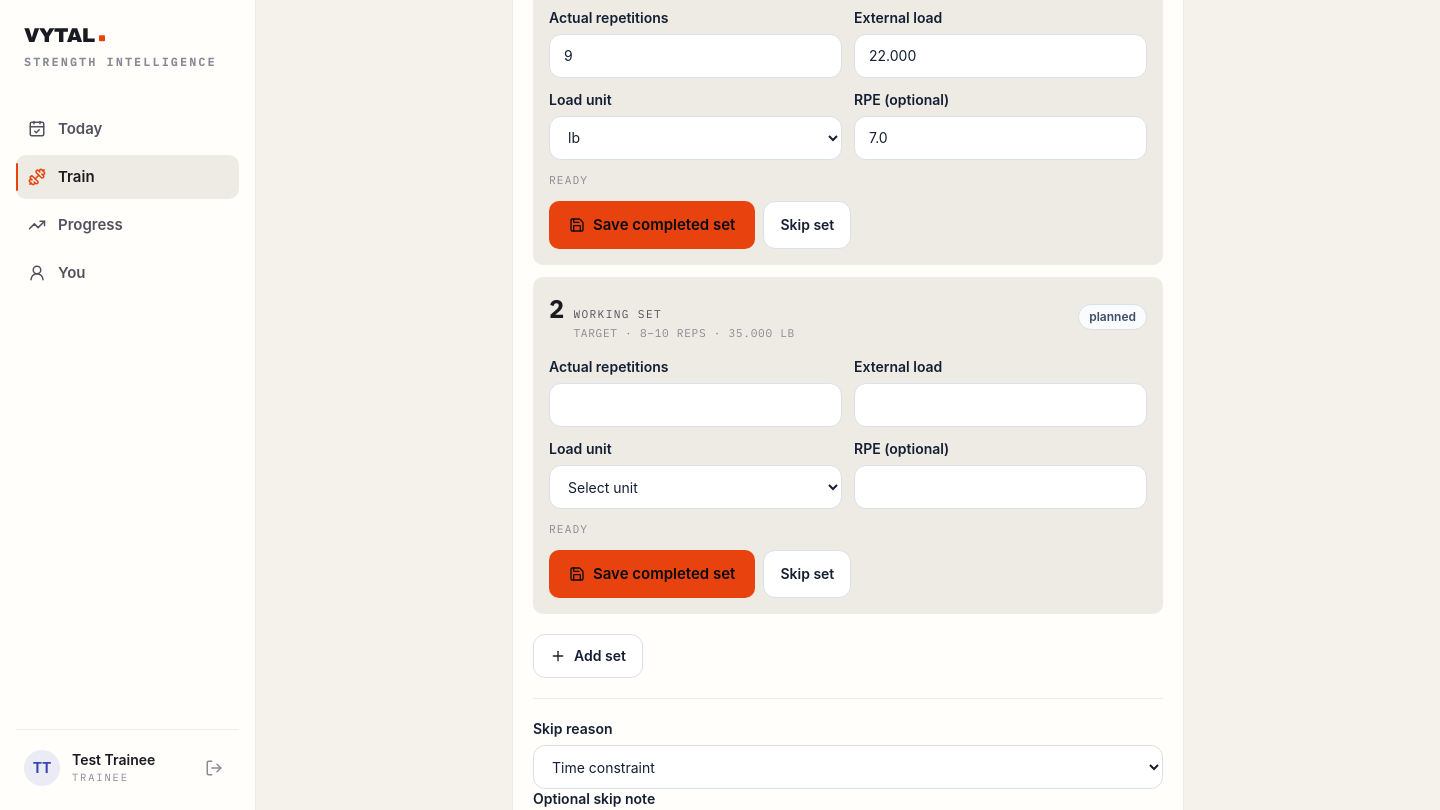
it: preserves unsaved values and offers reload after a revision conflict
The image size is (1440, 810).
(page scrolled)
In the number field labelled "Actual repetitions" below "planned": (696, 405) [549, 383, 842, 427], type "12"
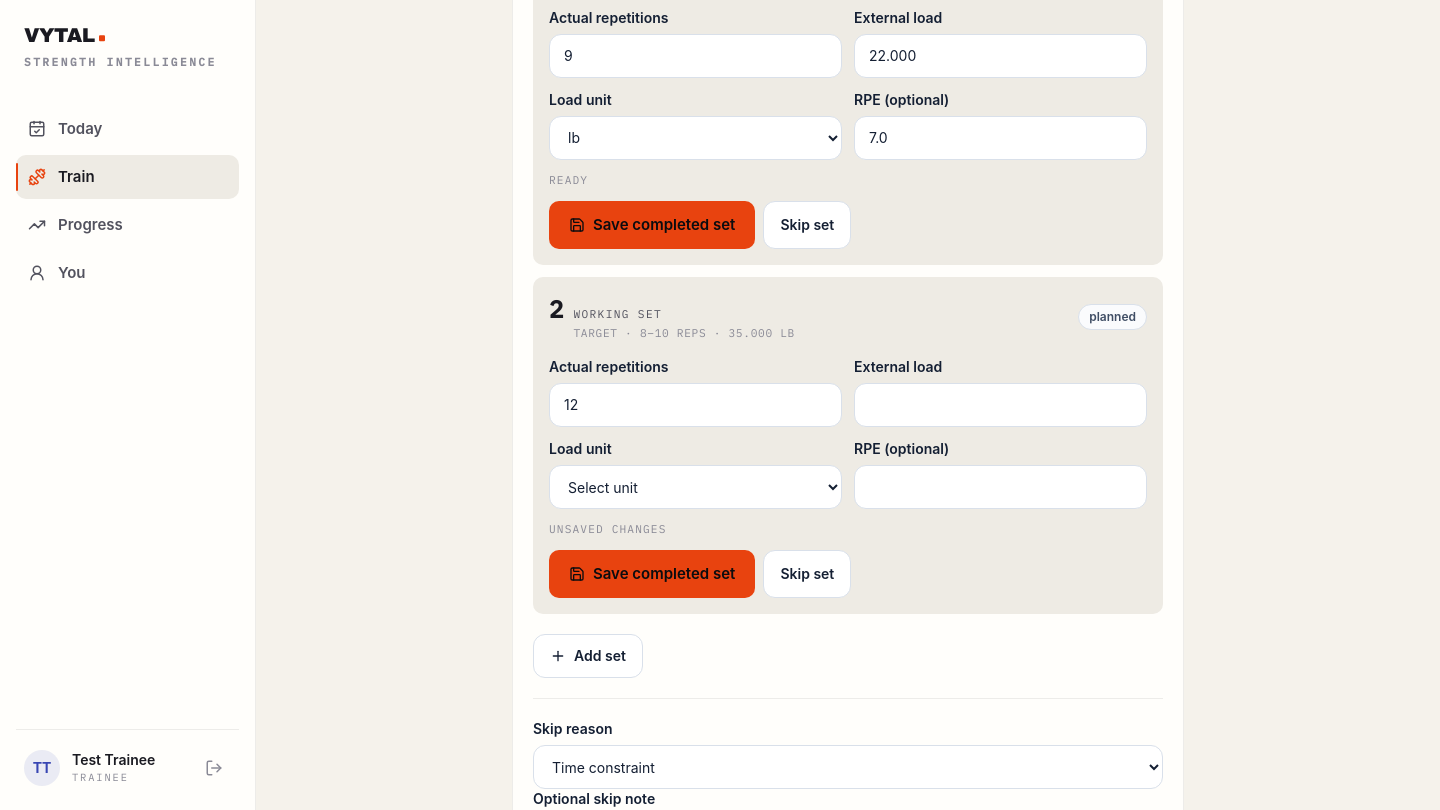
In the number field labelled "External load" below "planned": (1000, 405) [854, 383, 1147, 427], type "25"
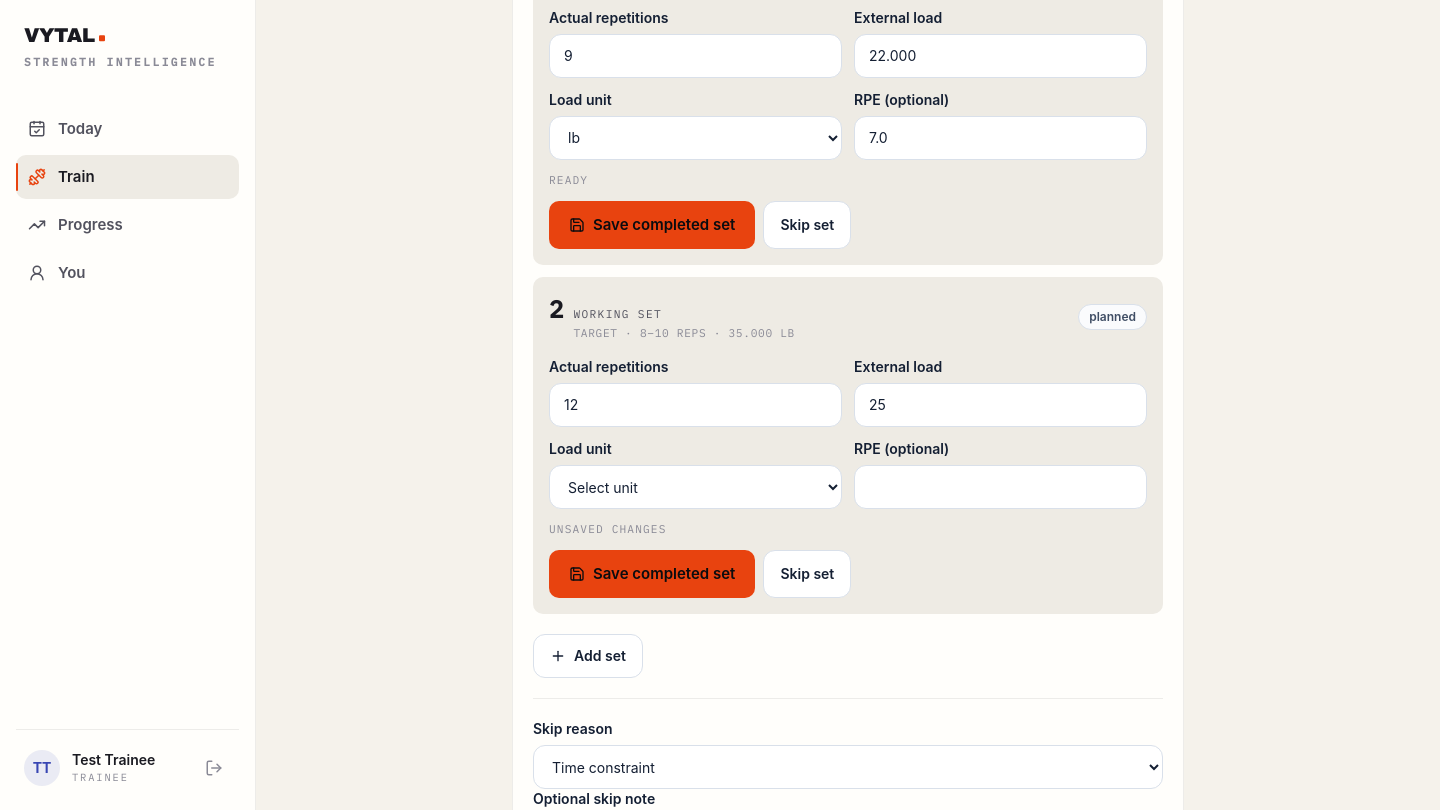
Select "kg" in the dropdown labelled "Load unit" below "planned": (696, 487) [549, 465, 842, 509]
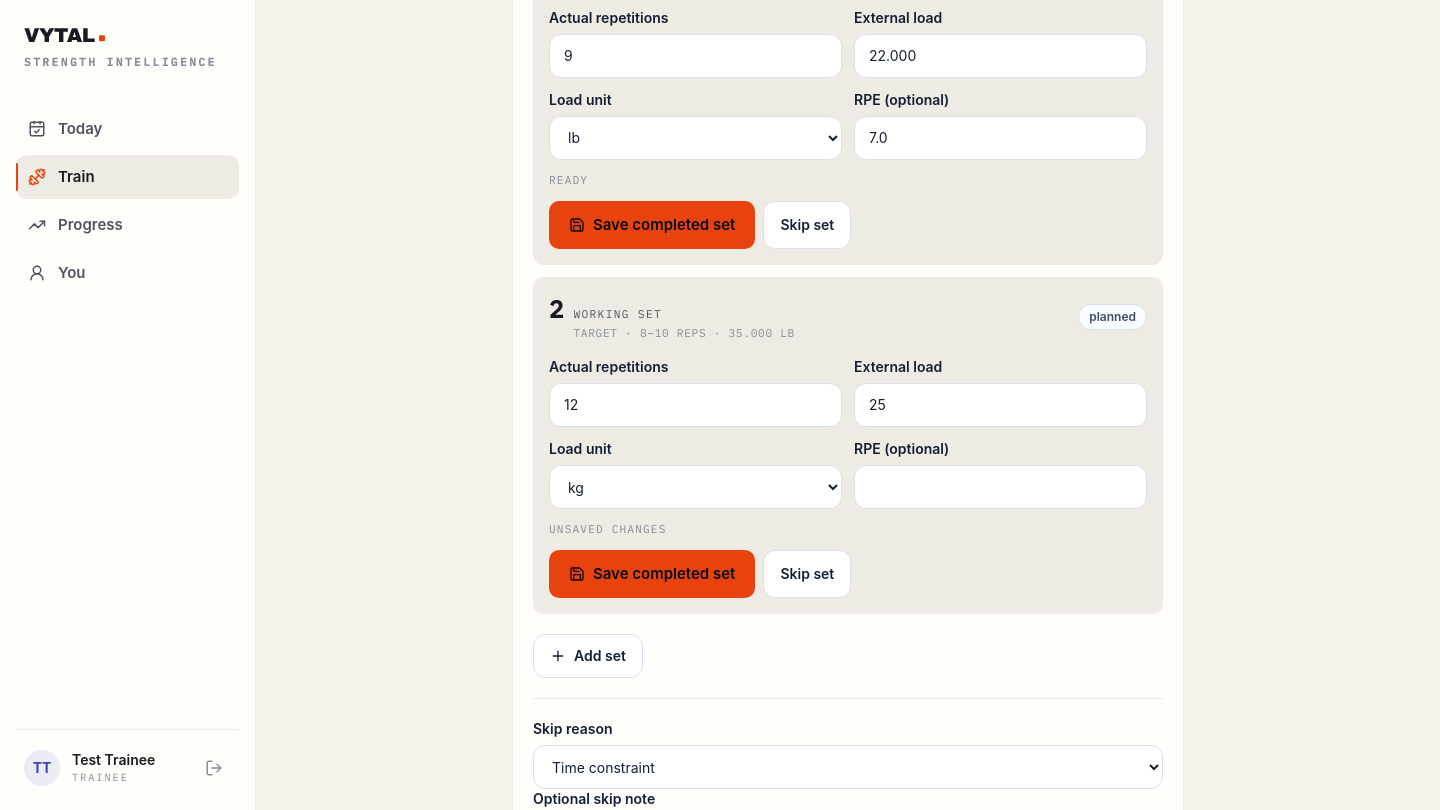
Click the button "Save completed set" below "Unsaved changes": (652, 574) [549, 550, 755, 598]
(page scrolled)
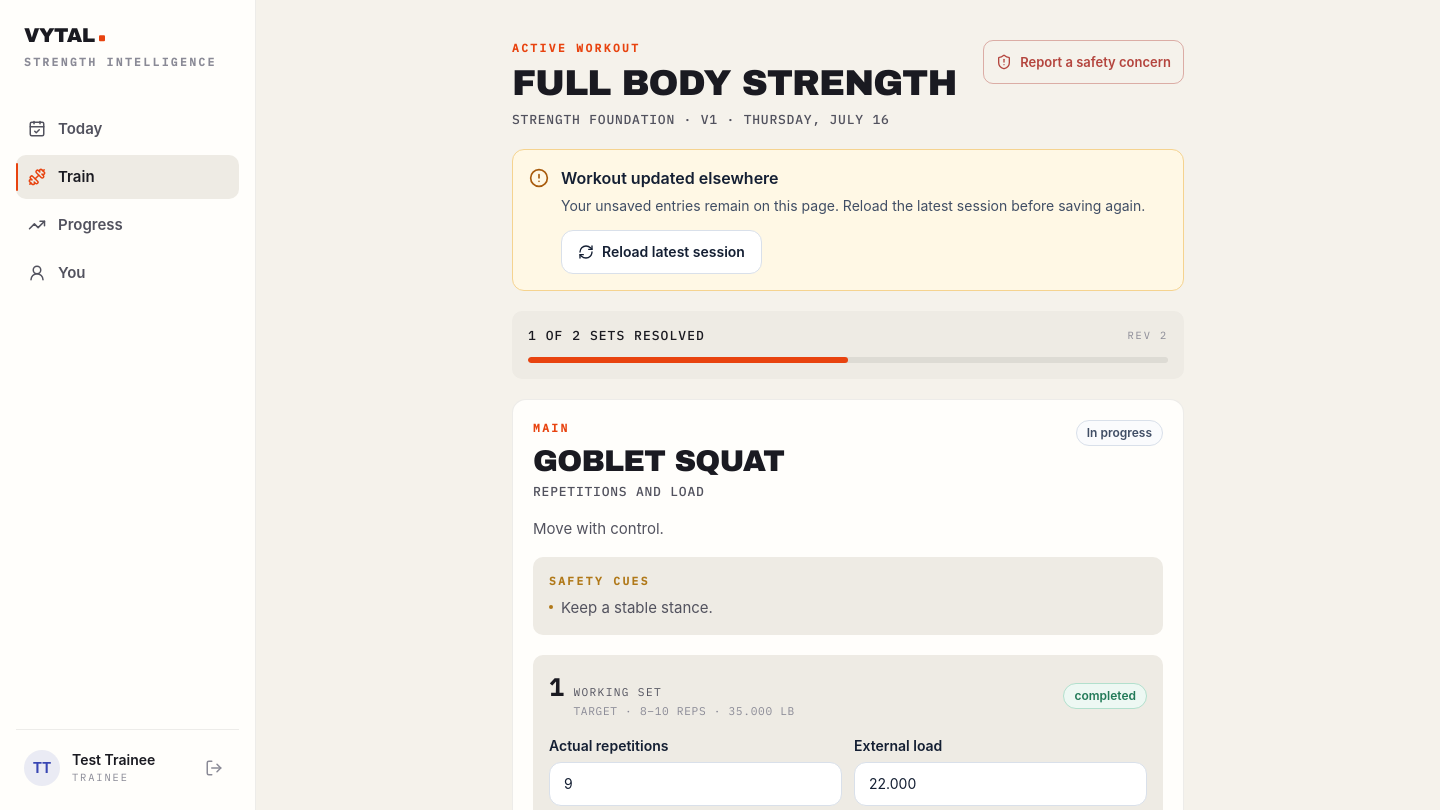
Now the text "Workout updated elsewhere" is shown, box [561, 168, 779, 188]
Now the button "Reload latest session" is shown, box [561, 230, 762, 274]
